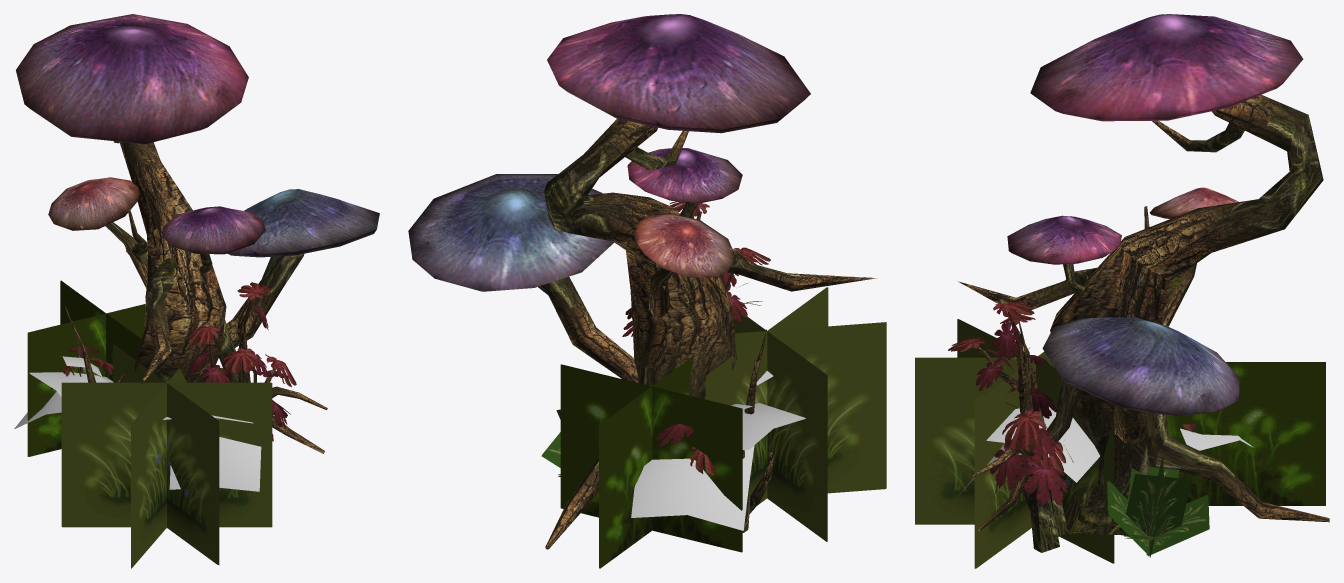
The model's file is mogu_02.FBX.
3 renders of one model, left to right at view 1: azimuth 30°, elevation 25°; view 2: azimuth 150°, elevation 25°; view 3: azimuth 270°, elevation 25°, orthographic. The views are drawn at different scales.
Parts seen in each view (by area): view 1: mogu_02_07, mogu_02_03, mogu_02_06, mogu_02_08, mogu_02_01, mogu_02_05, mogu_02_04, mogu_02_02; view 2: mogu_02_06, mogu_02_03, mogu_02_07, mogu_02_08, mogu_02_01, mogu_02_05, mogu_02_02, mogu_02_04; view 3: mogu_02_06, mogu_02_03, mogu_02_07, mogu_02_08, mogu_02_01, mogu_02_04, mogu_02_09, mogu_02_05, mogu_02_02.
Boxes of the visible parts, box(x1,y1,x2,y2) form: mogu_02_07: box(61, 344, 272, 568); mogu_02_03: box(16, 14, 265, 254); mogu_02_06: box(65, 141, 327, 453); mogu_02_08: box(27, 280, 145, 456); mogu_02_01: box(227, 189, 379, 257); mogu_02_05: box(14, 356, 261, 491); mogu_02_04: box(51, 282, 296, 441); mogu_02_02: box(48, 177, 138, 230); mogu_02_06: box(538, 118, 877, 549); mogu_02_03: box(547, 14, 810, 202); mogu_02_07: box(705, 287, 886, 541); mogu_02_08: box(560, 356, 742, 568); mogu_02_01: box(408, 174, 613, 291); mogu_02_05: box(631, 371, 805, 530); mogu_02_02: box(634, 213, 735, 277); mogu_02_04: box(622, 201, 770, 475); mogu_02_06: box(958, 94, 1329, 552); mogu_02_03: box(1007, 14, 1303, 264); mogu_02_07: box(915, 319, 1114, 568); mogu_02_08: box(1167, 362, 1325, 505); mogu_02_01: box(1042, 317, 1239, 416); mogu_02_04: box(948, 301, 1196, 504); mogu_02_09: box(1107, 456, 1209, 557); mogu_02_05: box(955, 407, 1253, 498); mogu_02_02: box(1149, 187, 1238, 218).
Size of the model in its own units: 11 by 14.31 by 10.38.
